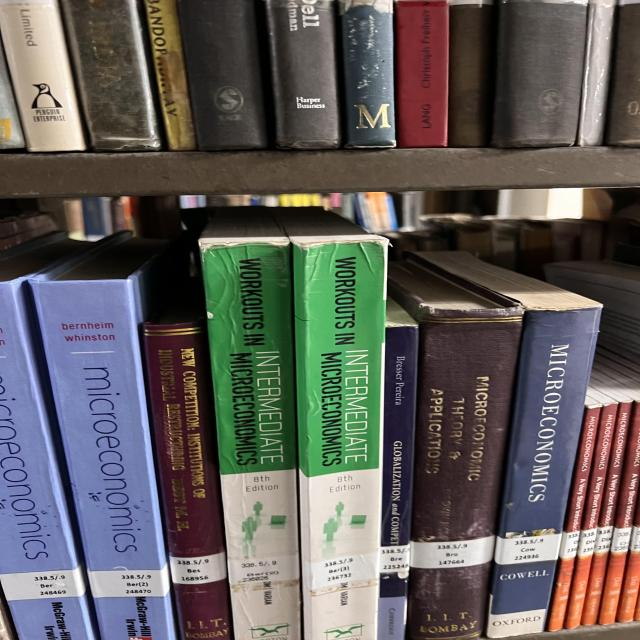Book: (430, 260, 602, 638), (30, 234, 177, 640), (388, 259, 523, 640), (273, 209, 387, 640), (200, 209, 300, 640), (0, 238, 97, 640), (143, 309, 233, 640), (377, 298, 418, 640)
Label: (0, 566, 85, 601), (410, 536, 495, 569), (88, 565, 170, 598), (310, 552, 378, 590), (495, 534, 562, 565), (228, 555, 298, 584), (170, 552, 227, 584), (380, 544, 410, 574)
